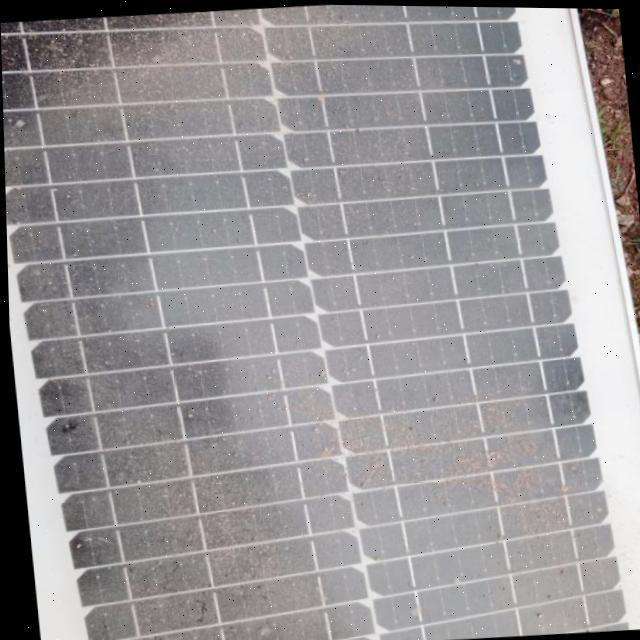Surface Contaminant: (1, 4, 596, 640)
